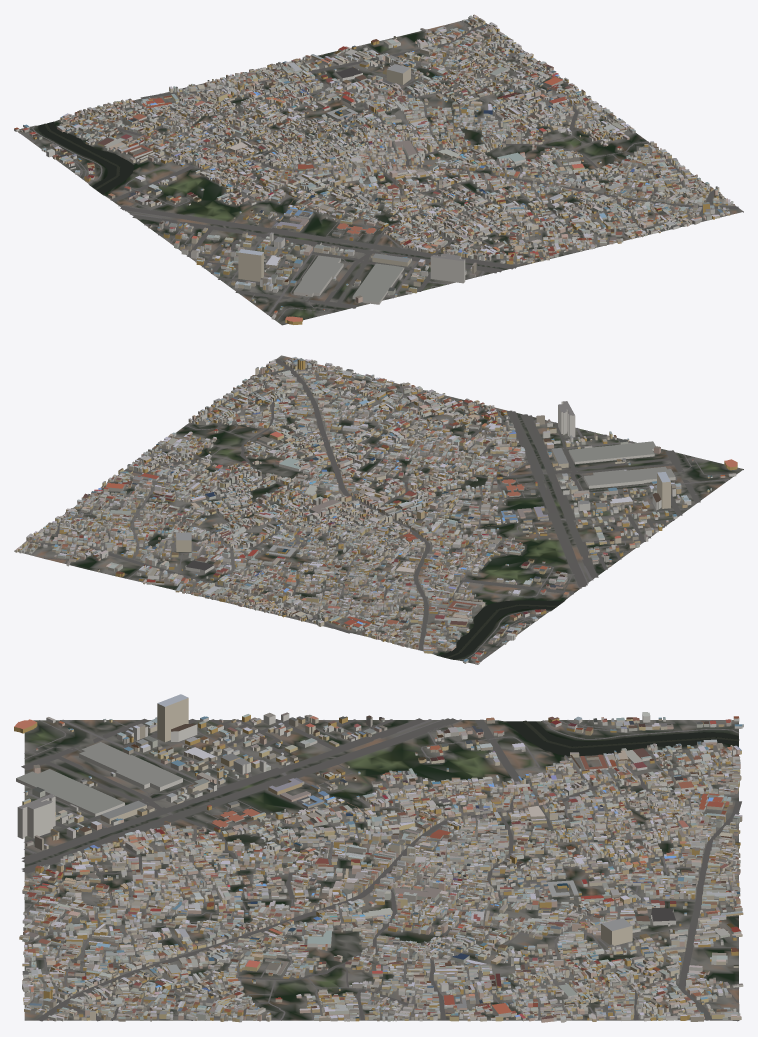
3 renders of one model, top to bottom at view 1: azimuth 30°, elevation 25°; view 2: azimuth 150°, elevation 25°; view 3: azimuth 270°, elevation 25°, orthographic. The views are drawn at different scales.
Visible parts, largest first — view 1: buildings, ground, roads, water; view 2: buildings, ground, roads, water; view 3: buildings, ground, roads, water.
Part boxes in pixels (x1,y1,x2,y2): buildings: (14,14,734,324); ground: (17,19,743,325); roads: (18,21,738,321); water: (38,121,133,194); buildings: (15,357,737,664); ground: (14,355,743,663); roads: (14,358,737,662); water: (439,600,563,659); buildings: (14,694,743,1022); ground: (24,720,739,1020); roads: (21,718,741,1021); water: (506,720,739,755).
Bounding box in the file's own units: 1418 × 83.14 × 1431.
